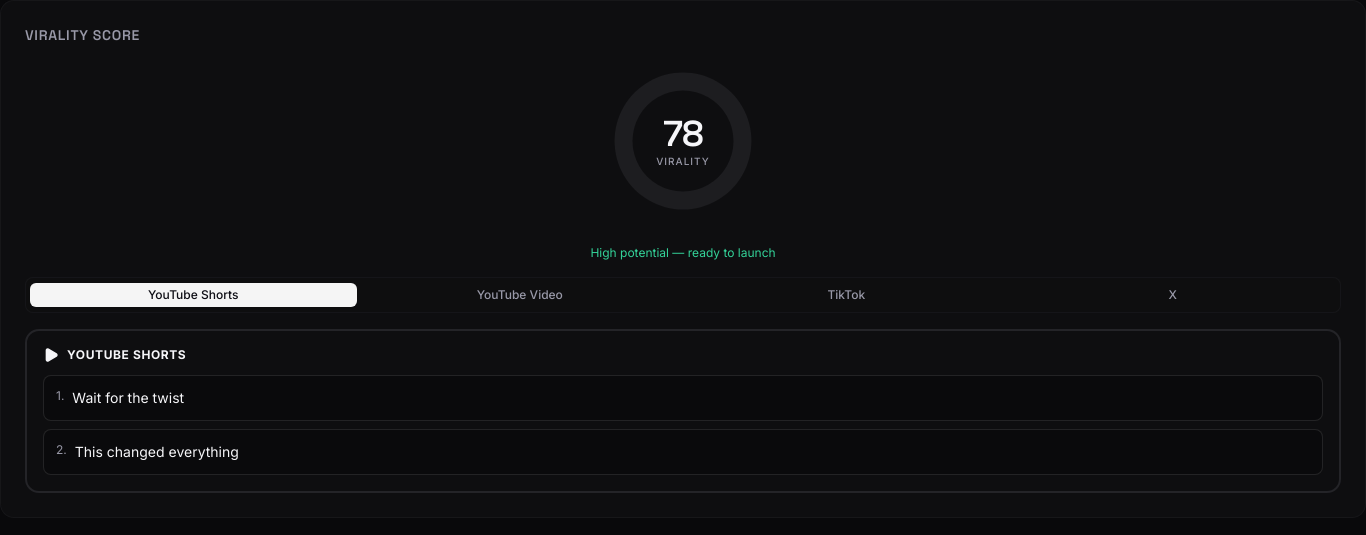
PlatformPreviewCanvas › shows X fallback with hooks
Step 1. Click the tab "X" → (1173, 295), box 1010,283 -> 1336,307
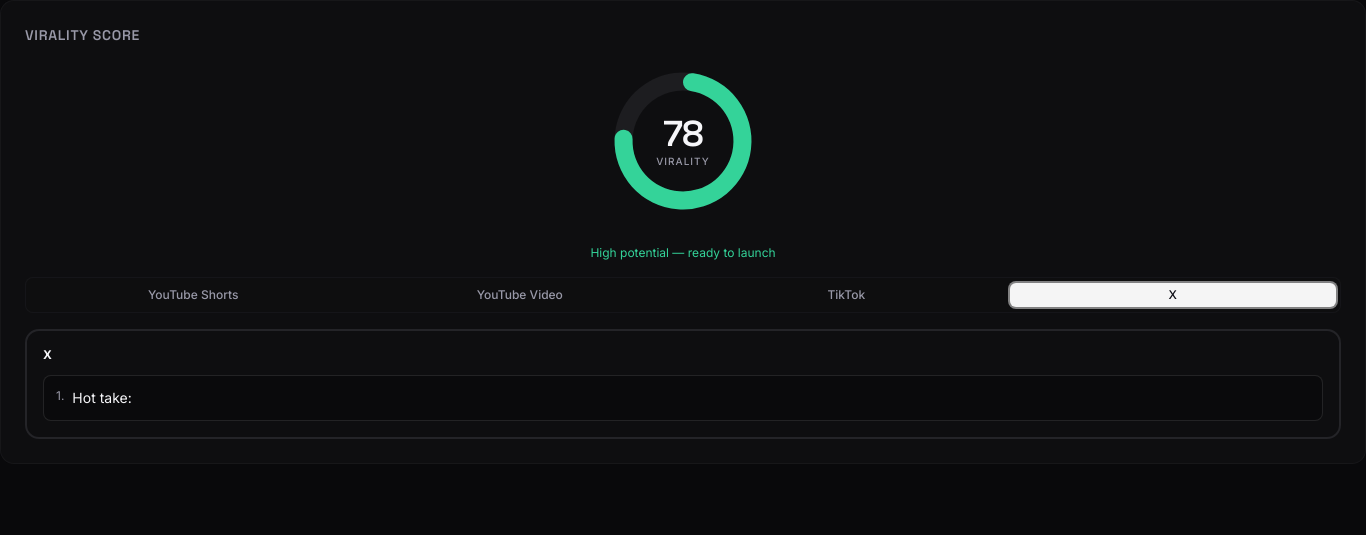
Expected: the text "Hot take:" is shown, 72,388 -> 132,408
